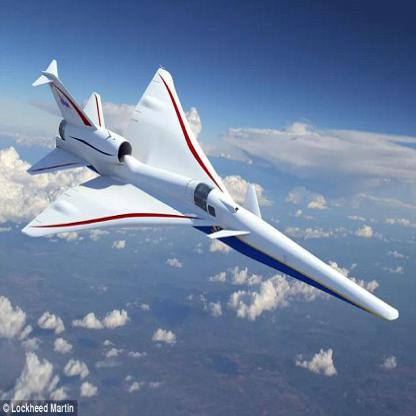CIV_Plane: (16, 51, 404, 335)
